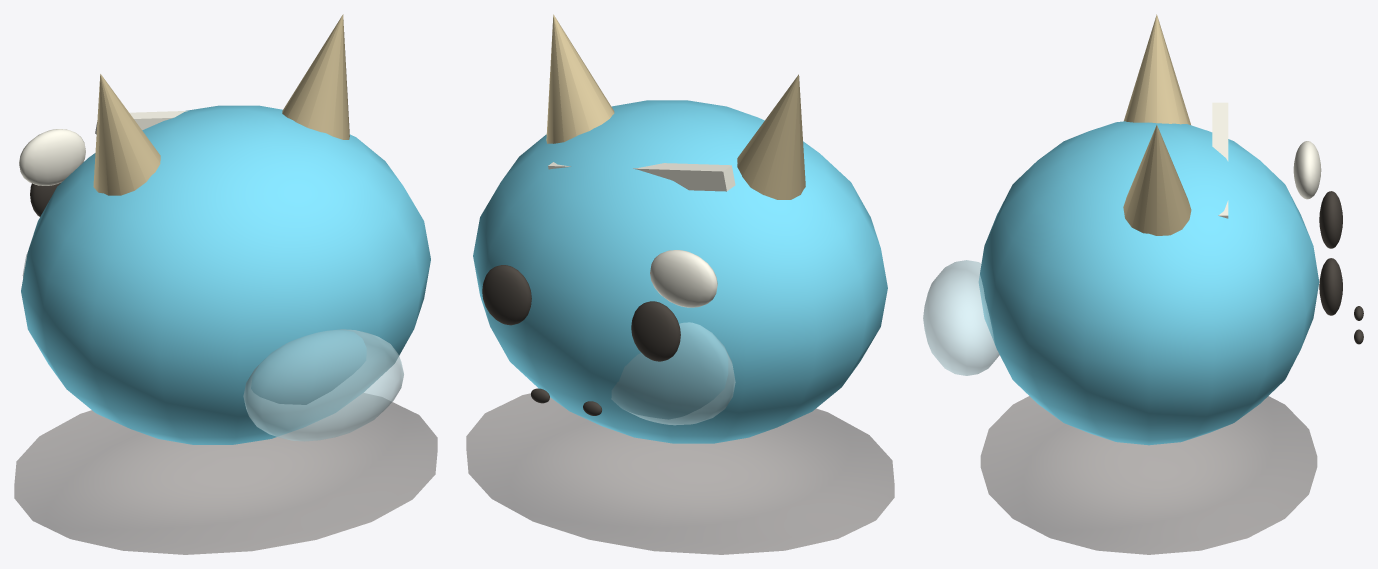
File: blob_runner.glb
The picture shows the model from 3 angles, left to right: view 1: azimuth 30°, elevation 25°; view 2: azimuth 150°, elevation 25°; view 3: azimuth 270°, elevation 25°; orthographic projection. The views are drawn at different scales.
Parts seen in each view (by area): view 1: body, shadow, runner-tail, horn-l, horn-r, shine, runner-streak, eye-l; view 2: body, shadow, belly-brush, horn-l, horn-r, shine, eye-r, eye-l, runner-streak; view 3: body, shadow, runner-tail, horn-r, horn-l, shine, eye-l, eye-r, runner-streak.
Boxes of the visible parts, <box> form: body: <box>21,105,430,444</box>; shadow: <box>14,393,437,554</box>; runner-tail: <box>243,329,403,441</box>; horn-l: <box>93,74,160,195</box>; horn-r: <box>282,14,349,139</box>; shine: <box>19,129,85,185</box>; runner-streak: <box>95,111,187,134</box>; eye-l: <box>30,182,61,216</box>; body: <box>473,100,887,443</box>; shadow: <box>466,393,894,554</box>; belly-brush: <box>611,322,735,425</box>; horn-l: <box>737,74,805,199</box>; horn-r: <box>546,14,614,143</box>; shine: <box>650,250,717,307</box>; eye-r: <box>482,265,531,325</box>; eye-l: <box>631,301,680,361</box>; runner-streak: <box>548,162,735,191</box>; body: <box>978,121,1319,445</box>; shadow: <box>980,396,1317,554</box>; runner-tail: <box>923,260,999,375</box>; horn-r: <box>1123,125,1191,235</box>; horn-l: <box>1124,14,1190,124</box>; shine: <box>1293,141,1321,199</box>; eye-l: <box>1319,191,1342,248</box>; eye-r: <box>1319,258,1342,315</box>; runner-streak: <box>1212,102,1228,218</box>.
Size of the model in its own units: 1.05 by 1.11 by 1.11.
